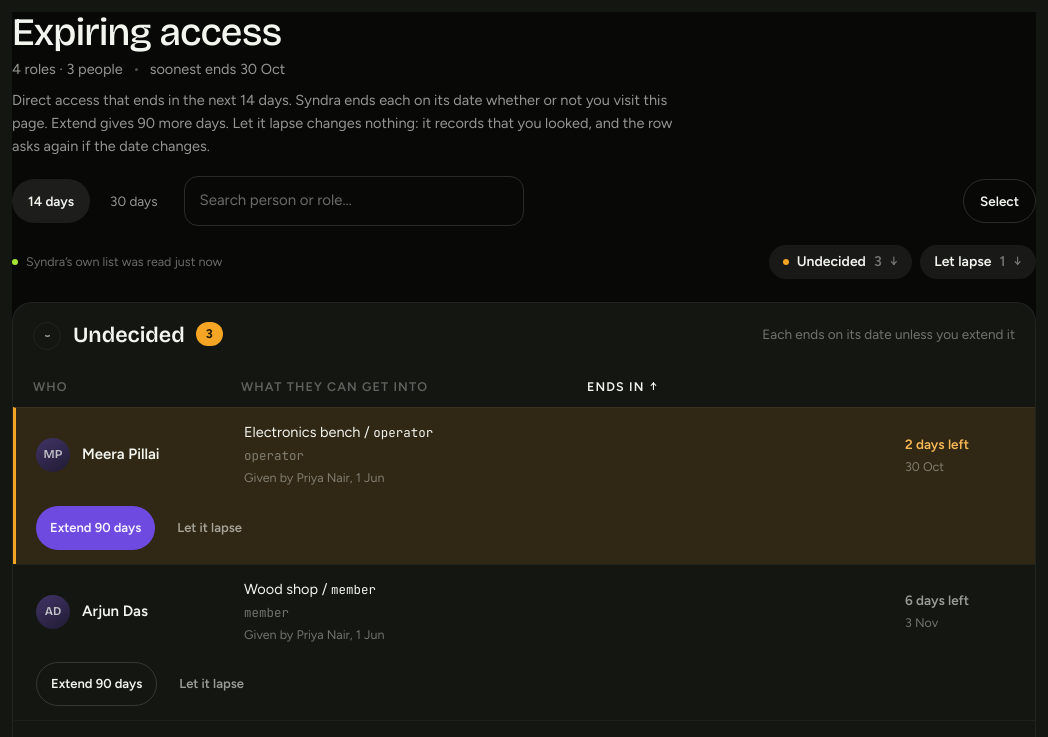
Test case: Expiring access — sort › gathers equal roles under a counted label, soonest first within each
Step 1. Click the button with aria-label "Sort by what they can get into" → point(342, 386), box [241,376,442,396]
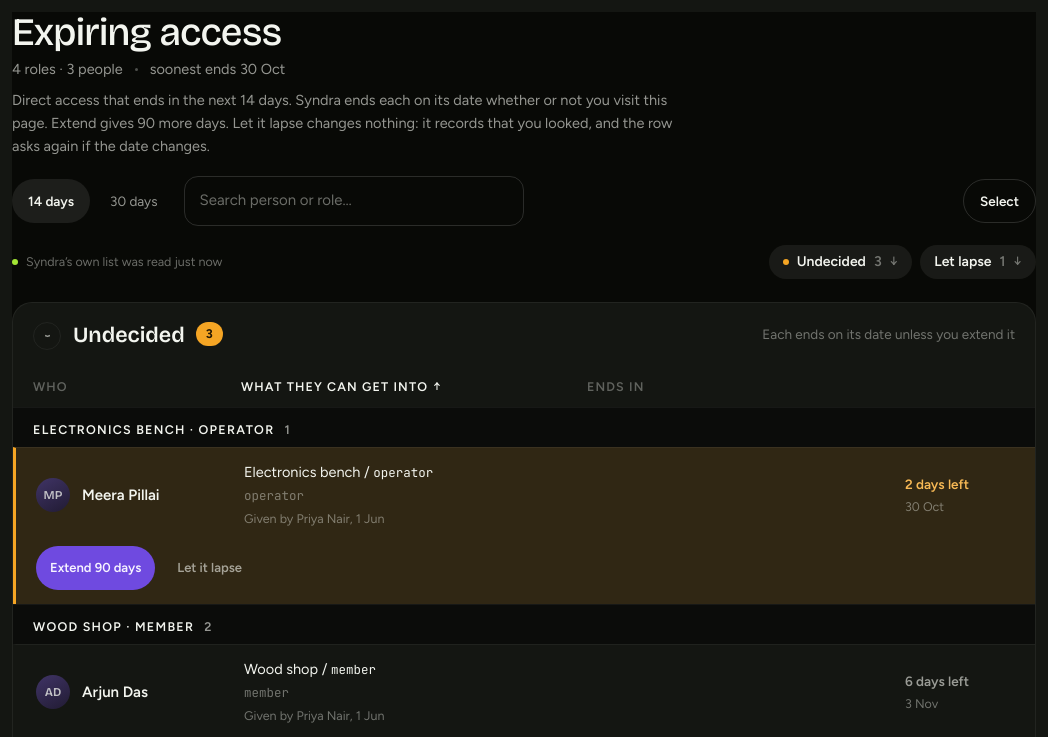
Expected: the elements with test id "run-label" read "Electronics bench · Operator1", "Wood shop · Member2", in this order, [33,420,290,439]; [33,617,211,636]
